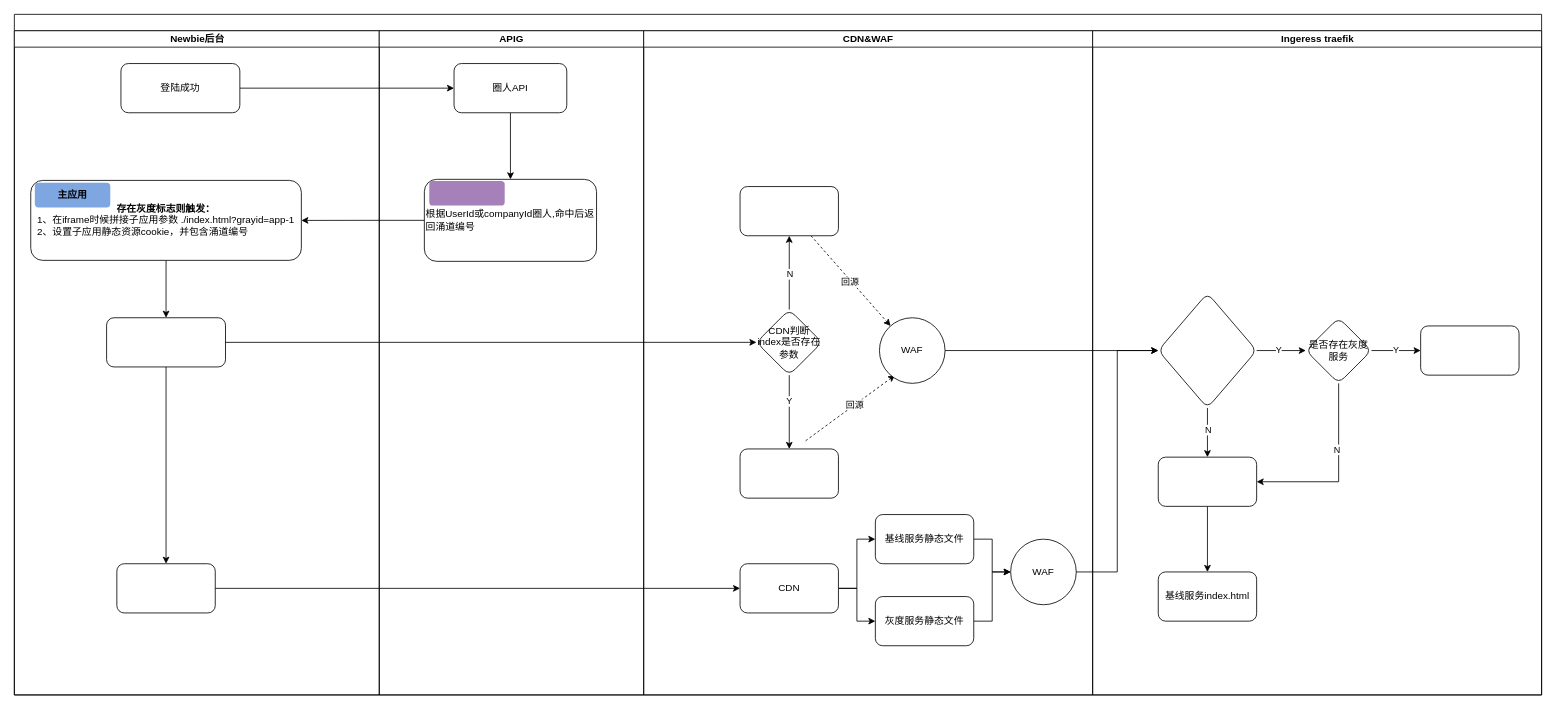
Some shapes in this 1556 by 709 pixel diagram are drawn without their labels. Each missing label, with the centre of its shape:
function graph: [466,193]
优先进入灰度规则，判断是否存在Cookie标记: [1207,350]
基线匹配规则: [1207,481]
基线缓存index.html: [788,211]
灰度服务index.html: [1469,350]
灰度缓存index.html&?grayid=app-1: [788,473]
请求子应用index.html: [166,342]
请求子应用静态资源: [165,588]
